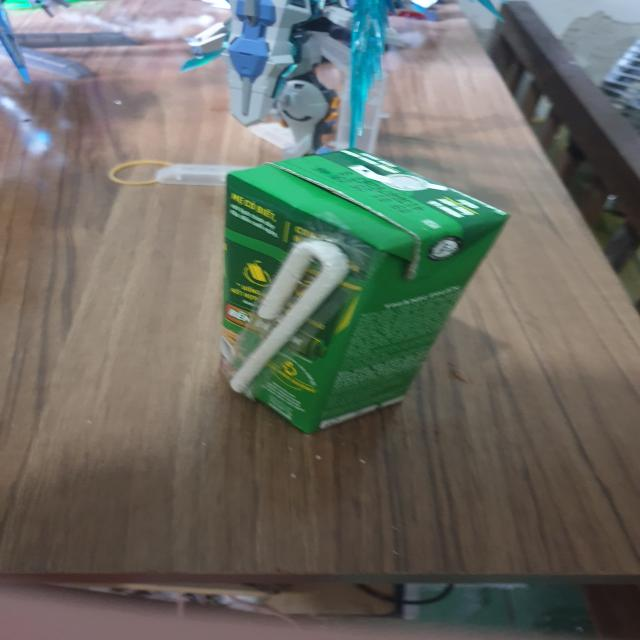Milo: (215, 146, 516, 437)
